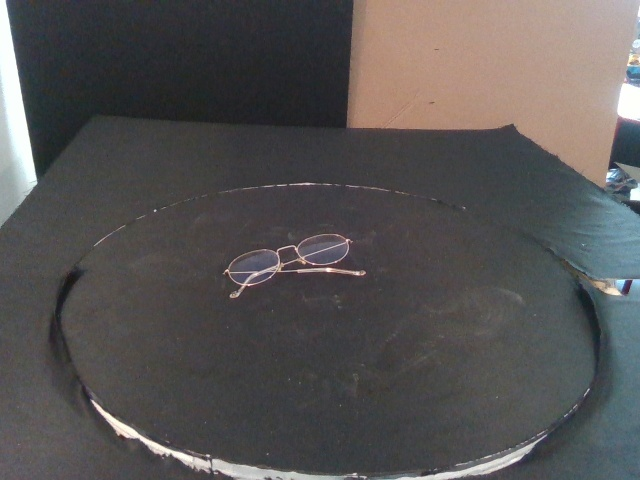glasses: (222, 232, 367, 299)
